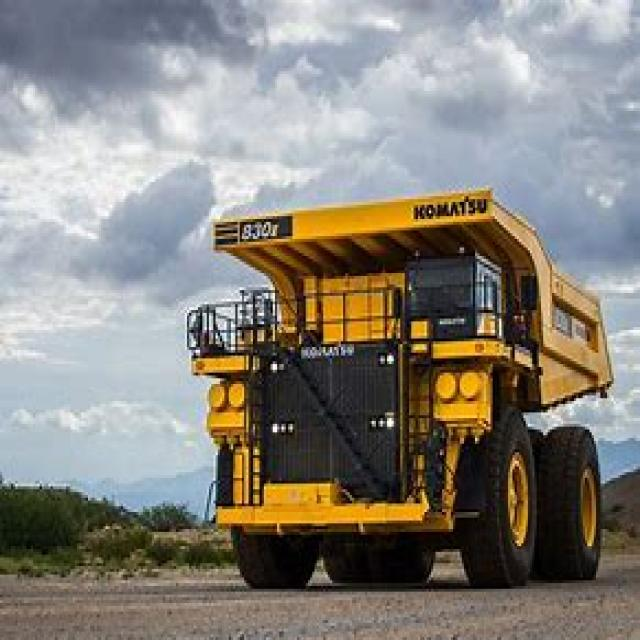dump_truck: (174, 191, 620, 580)
